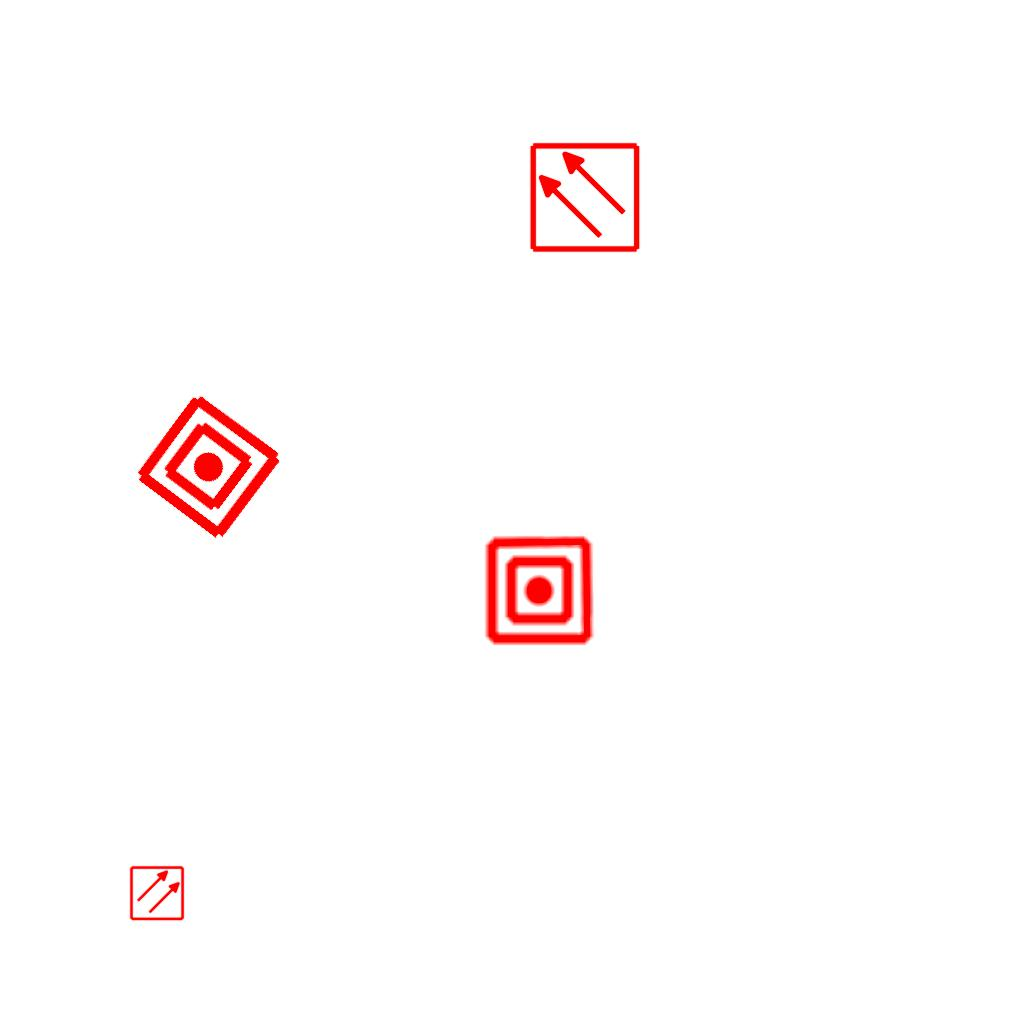NAM-Nichtautomatischer_Melder: (129, 387, 288, 546), (483, 534, 596, 647)
RMO_Rauchmelder_optischer: (528, 141, 641, 254), (129, 865, 185, 921)
